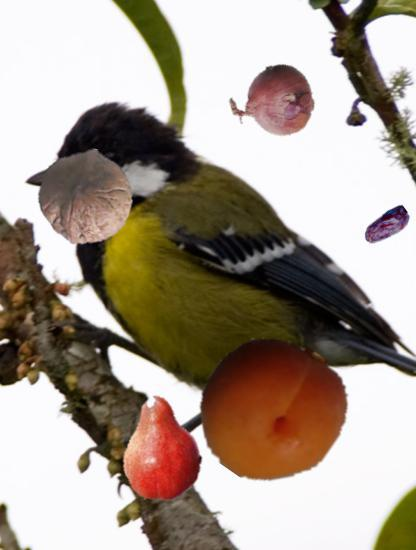Apricot: (198, 337, 344, 483)
Dates: (362, 201, 413, 252)
Onion: (230, 58, 319, 147)
Pear: (111, 396, 217, 502)
Walnut: (37, 148, 135, 246)
